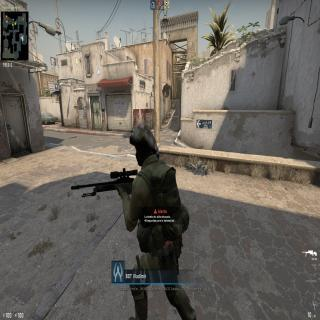CT-Head: (128, 122, 162, 166)
